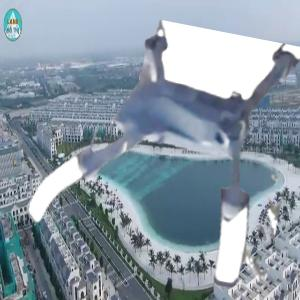drone: (28, 23, 291, 286)
